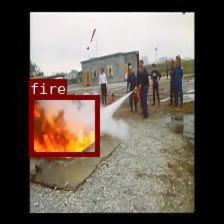fire: (28, 95, 99, 156)
